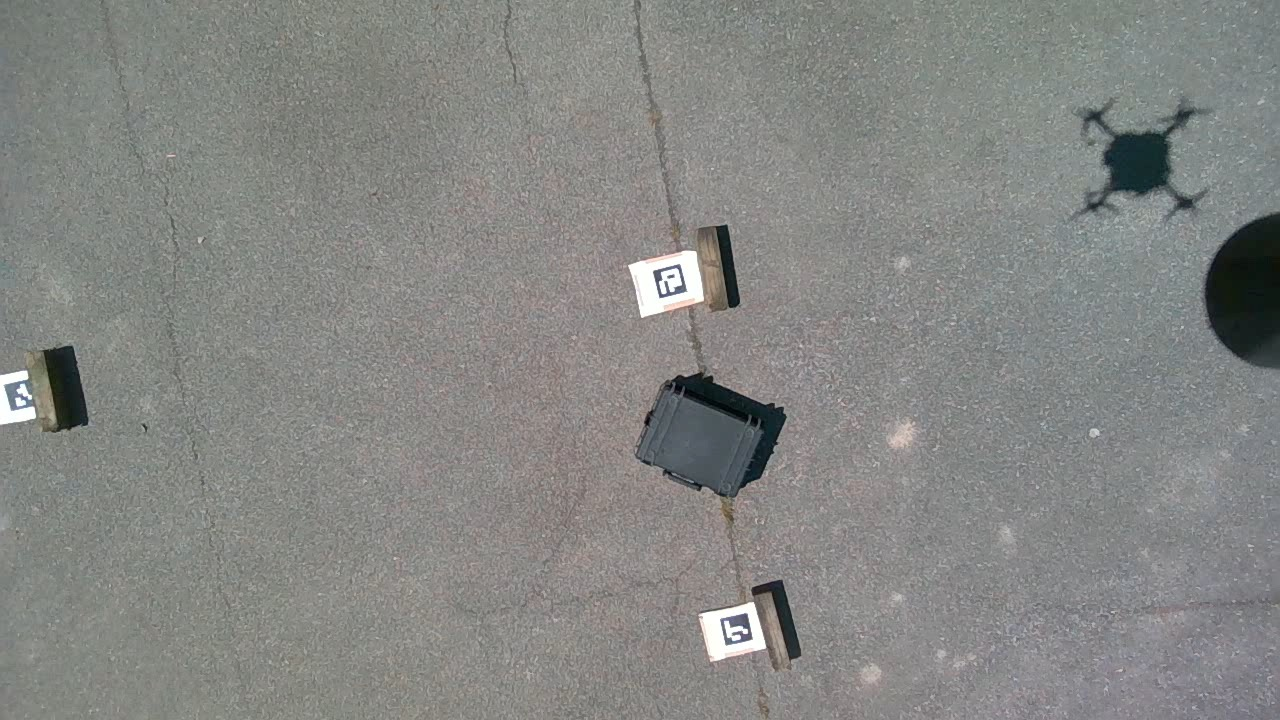rako: (631, 374, 770, 499)
